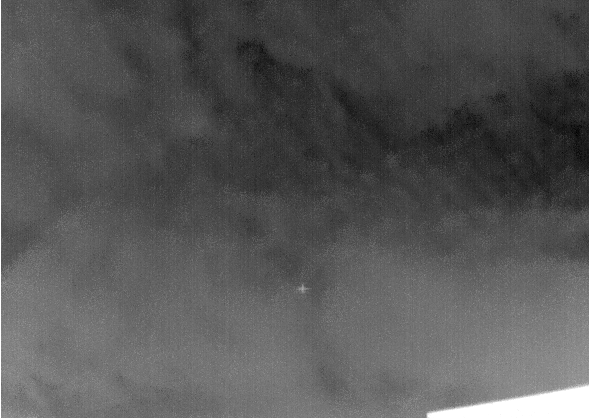dim target: (295, 283, 311, 294)
